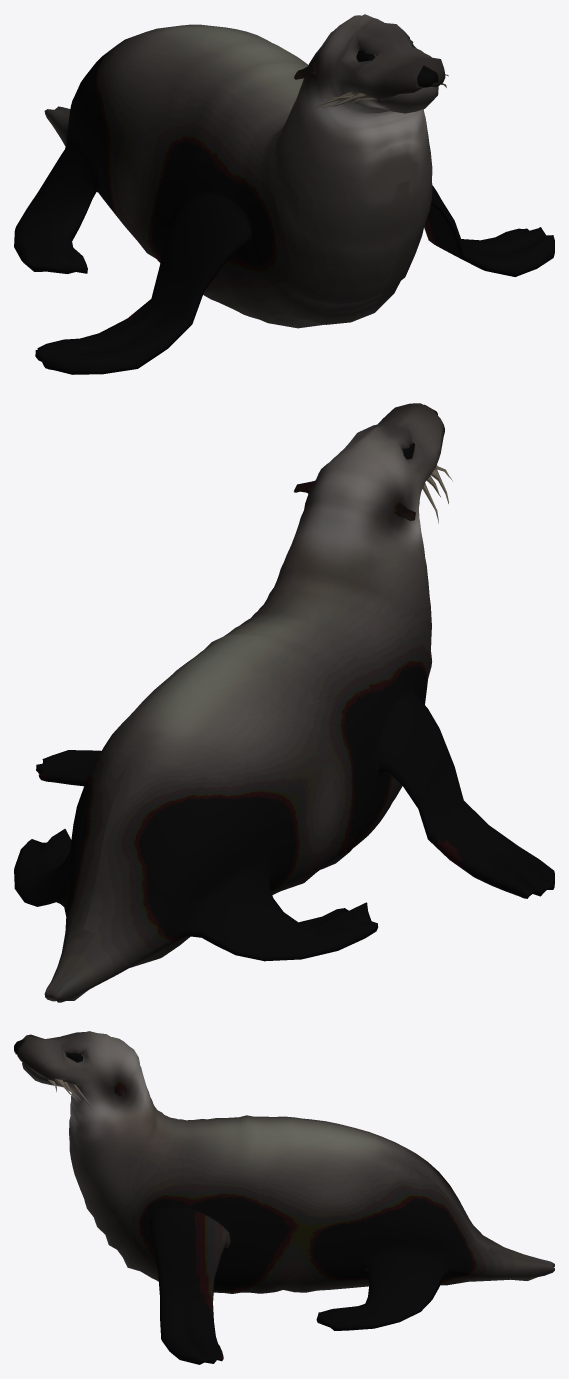
File: foca.obj
3 views of the same model, one above another, from view 1: azimuth 30°, elevation 25°; view 2: azimuth 150°, elevation 25°; view 3: azimuth 270°, elevation 25° (orthographic). The views are drawn at different scales.
Visible parts, largest first — view 1: sea; view 2: sea; view 3: sea.
Boxes of the visible parts, bbox=[...] form: sea: bbox=[14, 14, 554, 374]; sea: bbox=[14, 403, 554, 1002]; sea: bbox=[14, 1031, 554, 1364].
Size of the model in its own units: 2.91 by 1.9 by 3.74.
Materials: 4 (1 with a texture image).
